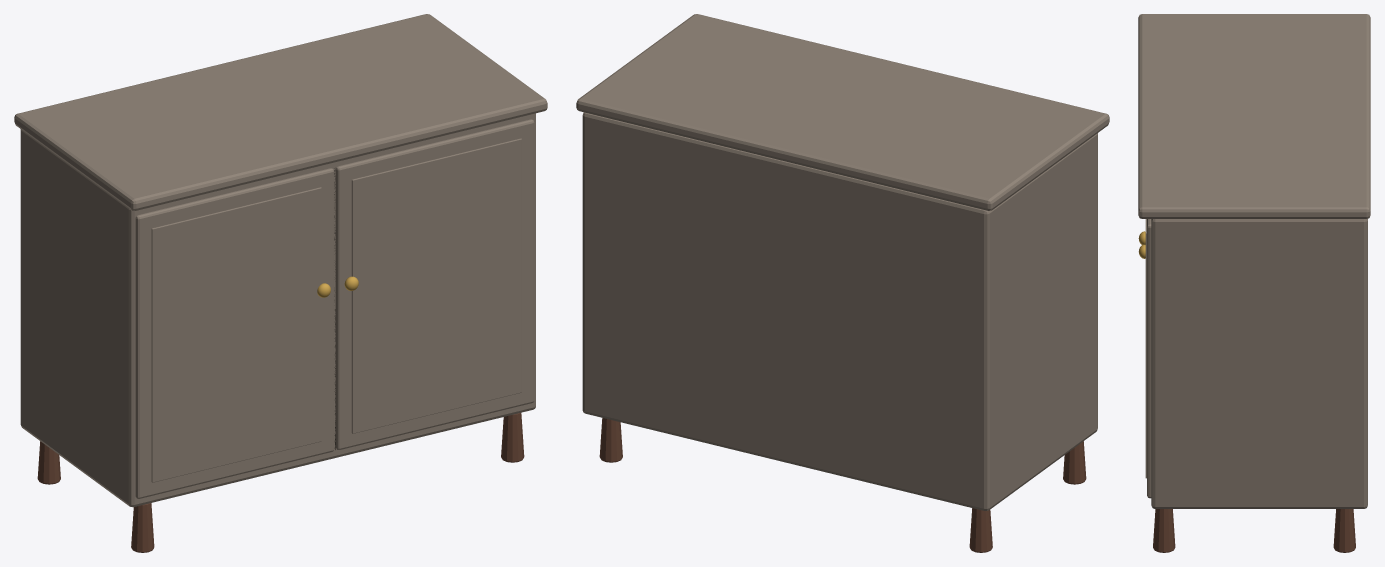
File: hh_cat_low_cabinet.glb
The picture shows the model from 3 angles, left to right: view 1: azimuth 30°, elevation 25°; view 2: azimuth 150°, elevation 25°; view 3: azimuth 270°, elevation 25°; orthographic projection. The views are drawn at different scales.
Parts seen in each view (by area): view 1: cabinet_top, door_panel, door_panel.001, carcass, door.001, door, leg, leg.002, leg.001; view 2: carcass, cabinet_top, leg.001, leg.003, leg; view 3: carcass, cabinet_top, door.001, leg.002, leg.003, door_panel.001.
Part boxes in pixels (box(x1,y1,x2,y2)): cabinet_top: box(14, 14, 547, 210); door_panel: box(151, 187, 321, 482); door_panel.001: box(351, 138, 521, 433); carcass: box(20, 113, 535, 507); door.001: box(335, 119, 534, 449); door: box(135, 168, 333, 498); leg: box(131, 503, 154, 552); leg.002: box(501, 413, 524, 462); leg.001: box(37, 441, 60, 484); carcass: box(582, 112, 1097, 510); cabinet_top: box(576, 14, 1109, 210); leg.001: box(969, 508, 992, 552); leg.003: box(599, 418, 622, 462); leg: box(1063, 441, 1086, 484); carcass: box(1151, 218, 1367, 508); cabinet_top: box(1138, 14, 1370, 218); door.001: box(1147, 219, 1151, 498); leg.002: box(1153, 509, 1175, 552); leg.003: box(1333, 509, 1355, 552); door_panel.001: box(1145, 219, 1146, 478).
Size of the model in its own units: 0.9 by 0.75 by 0.45.
